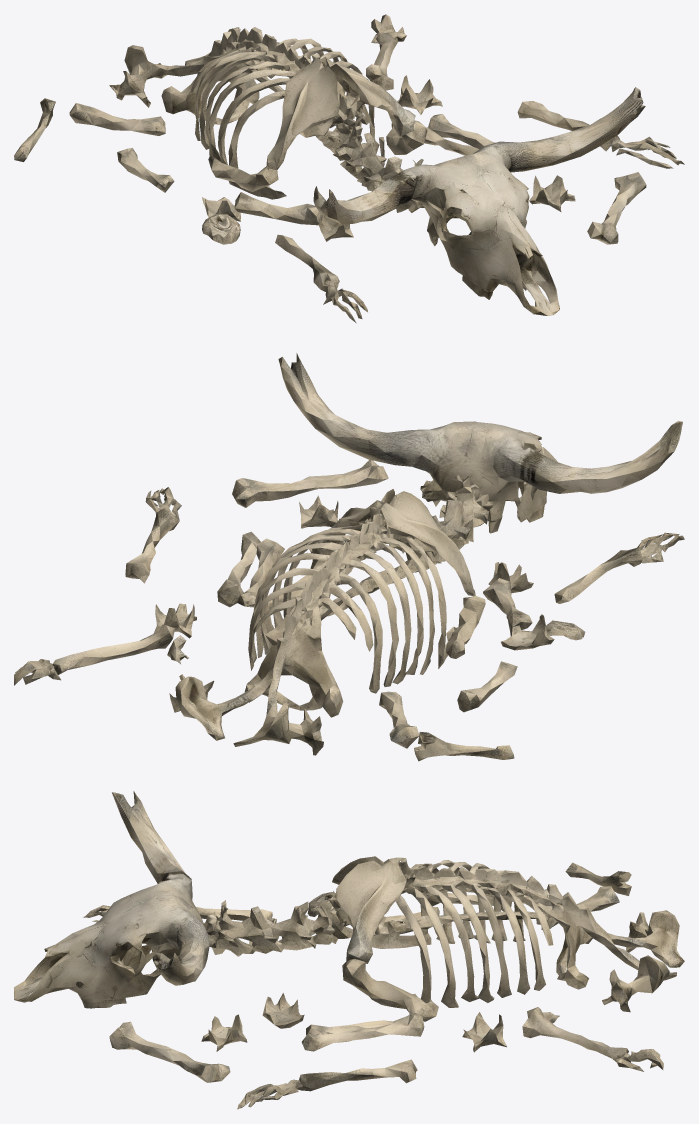
File: bones_b.glb
The picture shows the model from 3 angles, top to bottom: view 1: azimuth 30°, elevation 25°; view 2: azimuth 150°, elevation 25°; view 3: azimuth 270°, elevation 25°; orthographic projection. The views are drawn at different scales.
Visible parts, largest first — view 1: mesh_node; view 2: mesh_node; view 3: mesh_node.
Part boxes in pixels (x1,y1,x2,y2): mesh_node: (14,14,684,323); mesh_node: (14,353,684,761); mesh_node: (14,791,684,1109).
Size of the model in its own units: 1.6 by 0.4062 by 1.9.
1 material, 1 textured.
